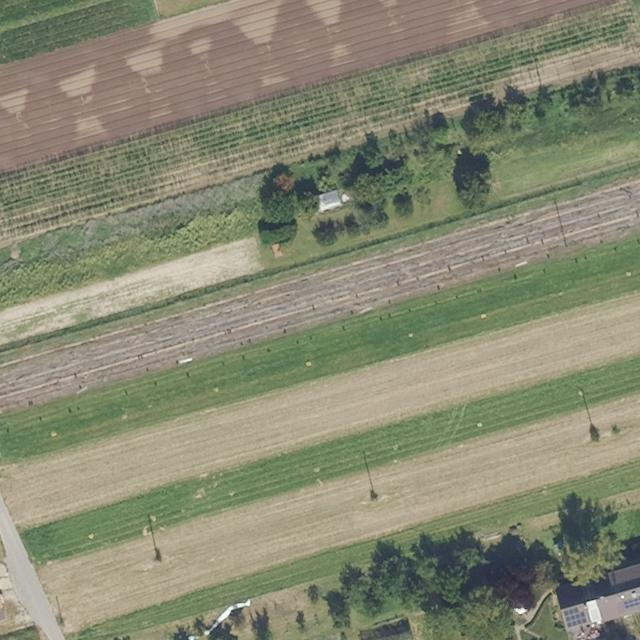PV: (563, 606, 588, 628), (623, 597, 639, 609)
